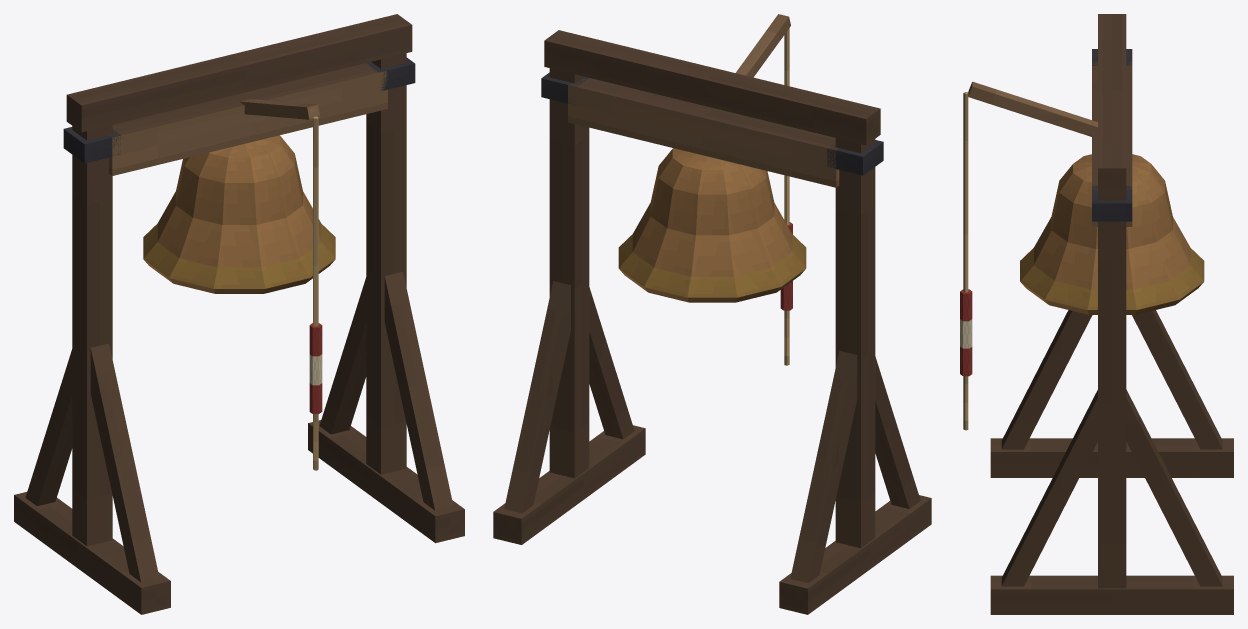
Rendered from bell-and-rope.glb.
The picture shows the model from 3 angles, left to right: view 1: azimuth 30°, elevation 25°; view 2: azimuth 150°, elevation 25°; view 3: azimuth 270°, elevation 25°; orthographic projection. The views are drawn at different scales.
Parts seen in each view (by area): view 1: frame.001, bell; view 2: frame.001, bell; view 3: frame.001, bell.
Part boxes in pixels (box(x1,y1,x2,y2)): frame.001: box(14, 14, 464, 614); bell: box(109, 63, 387, 470); frame.001: box(493, 30, 931, 614); bell: box(568, 14, 839, 365); frame.001: box(990, 14, 1233, 614); bell: box(960, 61, 1204, 430).
Bounding box in the file's own units: 1.8 × 2.48 × 1.35.
1 material, 1 textured.
